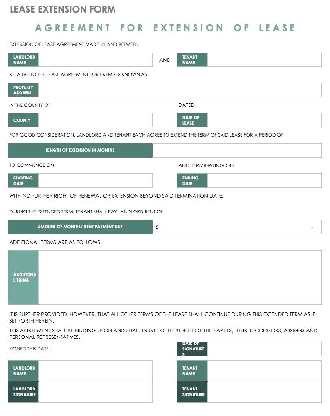textbox: (38, 249, 323, 306), (36, 81, 323, 98), (151, 141, 323, 159), (151, 218, 323, 236), (206, 358, 323, 383), (37, 358, 153, 382), (36, 380, 153, 403), (206, 381, 323, 404), (205, 50, 324, 69), (36, 172, 154, 190), (36, 51, 153, 69), (205, 112, 323, 129), (206, 172, 323, 189), (36, 112, 154, 128), (206, 341, 323, 357)
